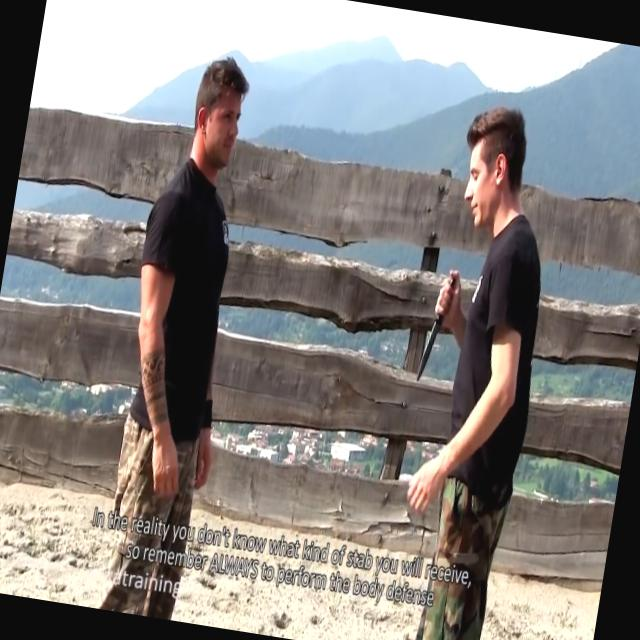knife: (410, 260, 464, 393)
